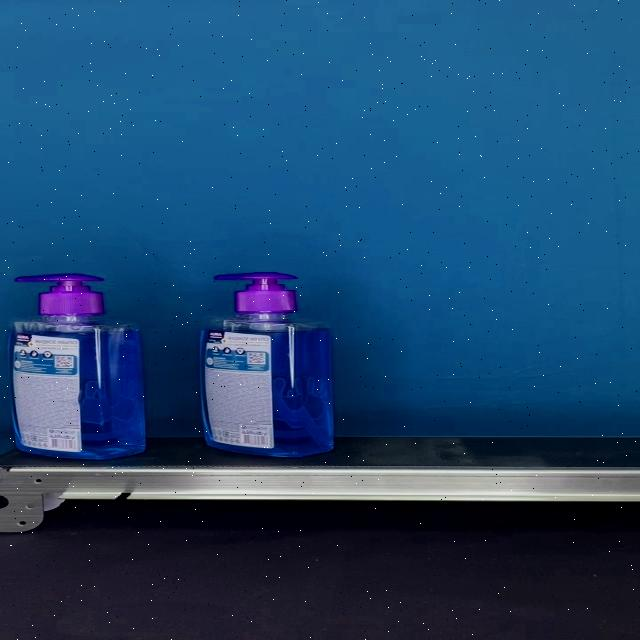Bottle: (7, 273, 146, 460), (198, 273, 334, 457)
Cap: (14, 274, 104, 316), (214, 272, 297, 314)
